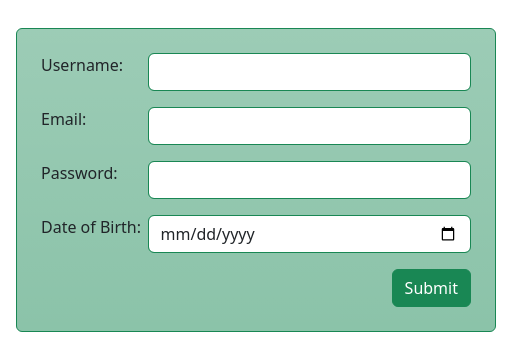
Validation after incorrect data submission › Displays an error message 'Username is required' if username is empty
The width and height of the screenshot is (513, 361).
Type "marius@gmail.com" into the field with test id "email".
click(310, 126); type("marius@gmail.com")  # box [148,107,472,145]
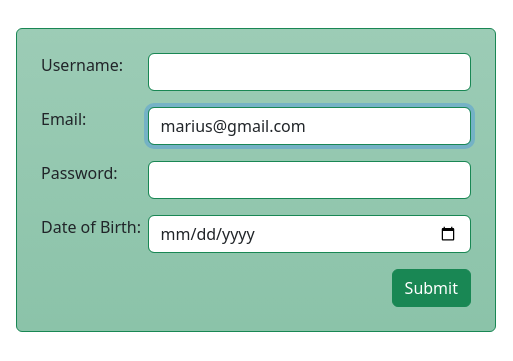
Type "mariuxas" into the password field with test id "password".
click(310, 180); type("mariuxas")  # box [148,161,472,199]
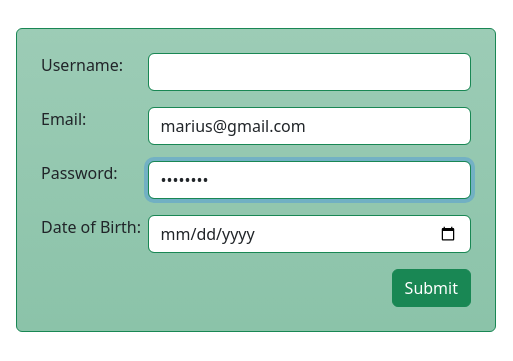
Type "1995-05-30" into the date field with test id "date-of-birth".
click(310, 234); type("1995-05-30")  # box [148,215,472,253]
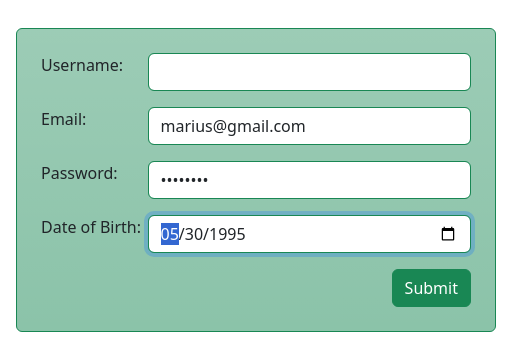
Click the button with test id "submit".
click(432, 288)  # box [392,269,471,307]
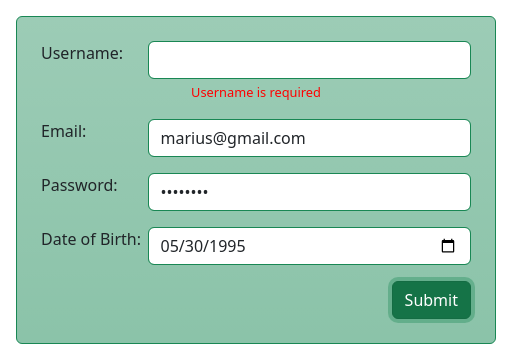
expect the text "Username is required" is shown: met, box [191,83,321,101]
